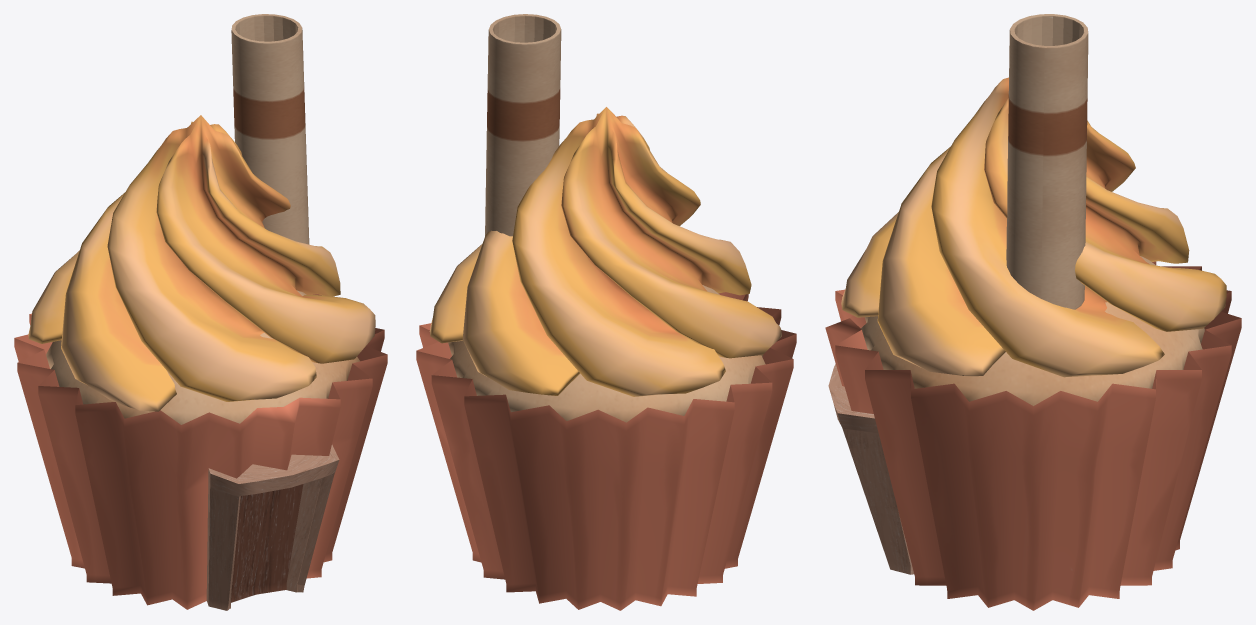
The model's file is Cupcake_House.fbx.
3 views of the same model, side by side, from view 1: azimuth 30°, elevation 25°; view 2: azimuth 150°, elevation 25°; view 3: azimuth 270°, elevation 25° (orthographic). The views are drawn at different scales.
Parts seen in each view (by area): view 1: polySurface1; view 2: polySurface1; view 3: polySurface1.
Part boxes in pixels (x1,y1,x2,y2): polySurface1: (14, 14, 387, 610); polySurface1: (416, 14, 796, 610); polySurface1: (825, 14, 1241, 610).
Bounding box in the file's own units: 587 × 868 × 587.
